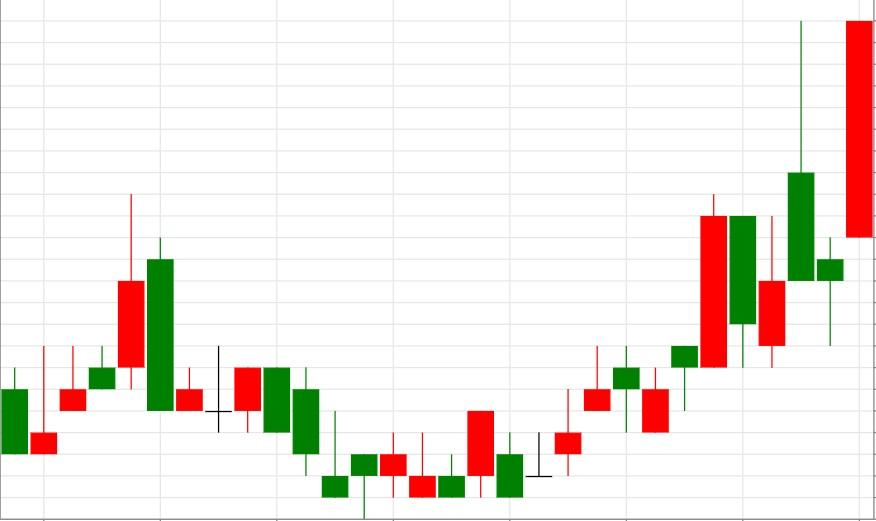inverse_hammer_rise: (117, 193, 349, 499)
